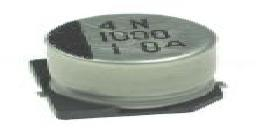Electrolytic-Capacitor: (44, 11, 229, 112)
